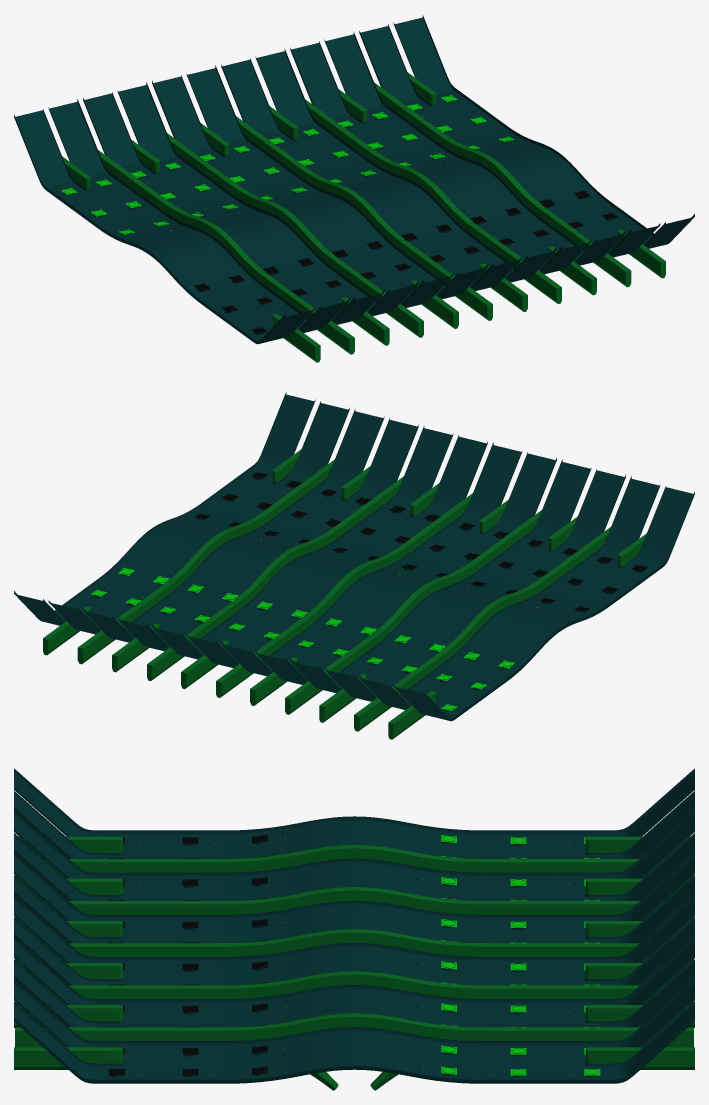
The model's file is Sostre.FBX.
3 views of the same model, one above another, from view 1: azimuth 30°, elevation 25°; view 2: azimuth 150°, elevation 25°; view 3: azimuth 270°, elevation 25° (orthographic). The views are drawn at different scales.
Visible parts, largest first — view 1: Sostre_B_6, Sostre_B_3, Sostre_B_4, Sostre_B_1, Sostre_B_2, Sostre_B_5, Sostre_A_6, Sostre_A_5, Sostre_A_3, Sostre_A_4, Sostre_A_1, Sostre_A_2 (+7 smaller); view 2: Sostre_A_6, Sostre_A_4, Sostre_A_3, Sostre_A_1, Sostre_A_2, Sostre_A_5, Sostre_B_6, Sostre_B_5, Sostre_B_3, Sostre_B_4, Sostre_B_1, Sostre_B_2 (+7 smaller); view 3: Sostre_A_1, Sostre_B_1, Sostre_A_4, Sostre_B_4, Sostre_A_3, Sostre_B_3, Sostre_A_2, Sostre_B_2, Sostre_A_6, Sostre_B_6, Sostre_B_5, Sostre_A_5 (+7 smaller).
Part boxes in pixels (x1,y1,x2,y2): Sostre_B_6: [14, 99, 213, 254]; Sostre_B_3: [221, 49, 420, 202]; Sostre_B_4: [152, 65, 351, 219]; Sostre_B_1: [359, 15, 558, 168]; Sostre_B_2: [290, 32, 489, 185]; Sostre_B_5: [83, 82, 282, 235]; Sostre_A_6: [150, 237, 349, 344]; Sostre_A_5: [230, 220, 418, 324]; Sostre_A_3: [368, 186, 556, 290]; Sostre_A_4: [299, 203, 487, 307]; Sostre_A_1: [506, 153, 694, 257]; Sostre_A_2: [437, 169, 625, 274]; Sostre_A_6: [495, 476, 694, 631]; Sostre_A_4: [357, 442, 556, 596]; Sostre_A_3: [288, 426, 487, 579]; Sostre_A_1: [150, 392, 349, 545]; Sostre_A_2: [219, 409, 418, 562]; Sostre_A_5: [426, 459, 625, 612]; Sostre_B_6: [359, 614, 558, 721]; Sostre_B_5: [290, 597, 478, 701]; Sostre_B_3: [152, 563, 340, 667]; Sostre_B_4: [221, 580, 409, 684]; Sostre_B_1: [14, 530, 202, 634]; Sostre_B_2: [83, 546, 271, 651]; Sostre_A_1: [14, 979, 354, 1083]; Sostre_B_1: [354, 979, 694, 1083]; Sostre_A_4: [14, 853, 354, 943]; Sostre_B_4: [354, 853, 694, 943]; Sostre_A_3: [14, 895, 354, 985]; Sostre_B_3: [354, 895, 694, 985]; Sostre_A_2: [14, 937, 354, 1027]; Sostre_B_2: [354, 937, 694, 1027]; Sostre_A_6: [14, 768, 354, 858]; Sostre_B_6: [354, 768, 694, 858]; Sostre_B_5: [354, 810, 694, 900]; Sostre_A_5: [14, 810, 354, 900].
Bounding box in the file's own units: 3380 × 715 × 3902.
